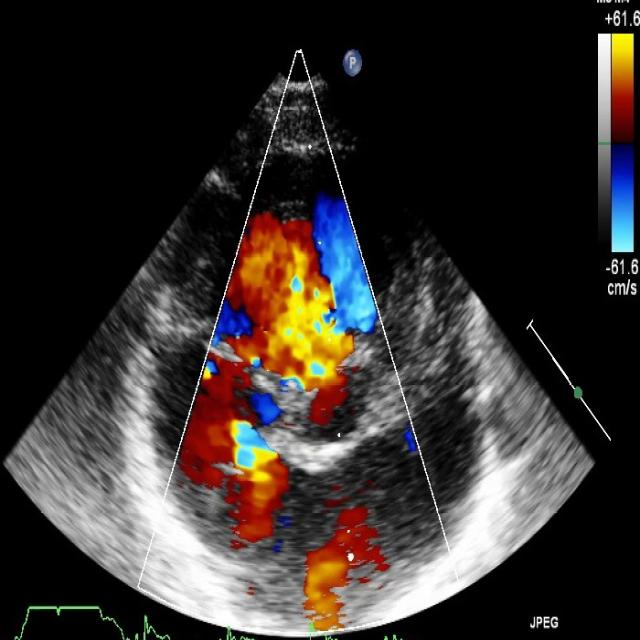VSDType2: (231, 209, 350, 398)
